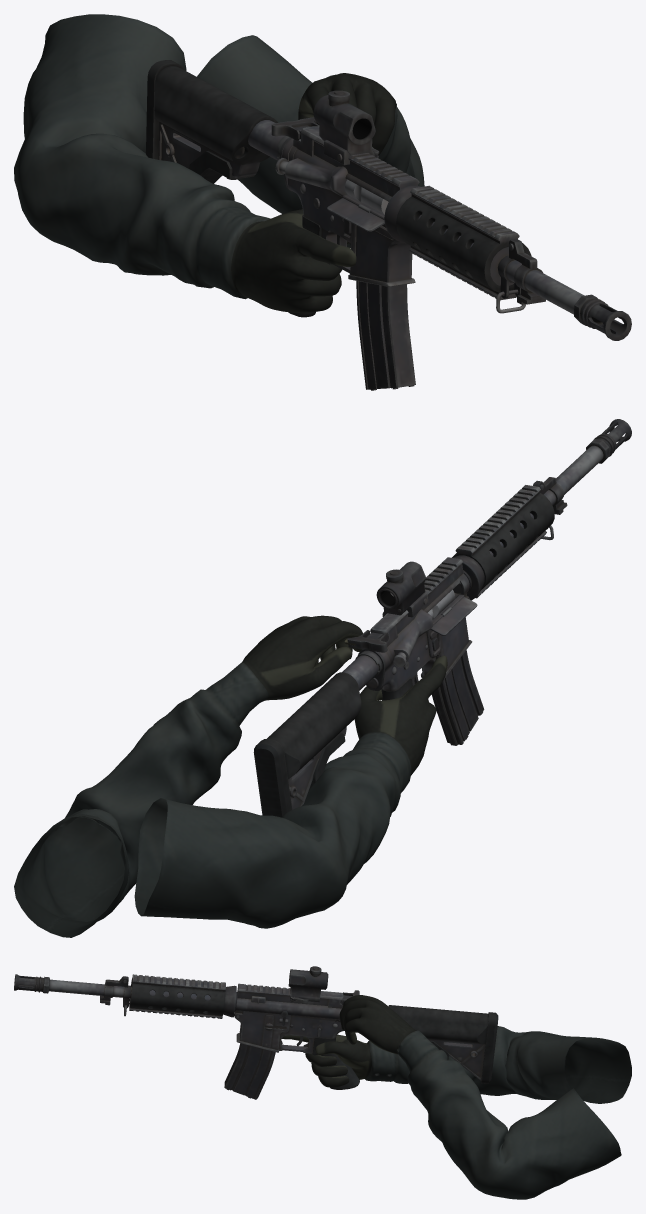
File: carbine_000091.obj
3 renders of one model, top to bottom at view 1: azimuth 30°, elevation 25°; view 2: azimuth 150°, elevation 25°; view 3: azimuth 270°, elevation 25°, orthographic. The views are drawn at different scales.
Visible parts, largest first — view 1: armmesh_arms_0, base_carbine_0, clip_carbine_0, scope_carbine_0, lid_carbine_0, bolt_carbine_0, handle_carbine_0; view 2: armmesh_arms_0, base_carbine_0, clip_carbine_0, scope_carbine_0, lid_carbine_0; view 3: armmesh_arms_0, base_carbine_0, clip_carbine_0, scope_carbine_0.
Boxes of the visible parts, <box> form: armmesh_arms_0: <box>14,14,424,312</box>; base_carbine_0: <box>146,60,631,340</box>; clip_carbine_0: <box>356,281,415,390</box>; scope_carbine_0: <box>313,90,379,165</box>; lid_carbine_0: <box>327,198,384,231</box>; bolt_carbine_0: <box>345,179,388,214</box>; handle_carbine_0: <box>271,117,319,140</box>; armmesh_arms_0: <box>14,615,447,937</box>; base_carbine_0: <box>253,419,631,817</box>; clip_carbine_0: <box>431,650,484,745</box>; scope_carbine_0: <box>376,561,428,617</box>; lid_carbine_0: <box>430,597,477,635</box>; armmesh_arms_0: <box>282,995,631,1199</box>; base_carbine_0: <box>14,974,498,1089</box>; clip_carbine_0: <box>224,1043,275,1099</box>; scope_carbine_0: <box>288,966,328,1003</box>.
Bounding box in the file's own units: 48.42 × 41.51 × 129.
Materials: 3 (3 with a texture image).
